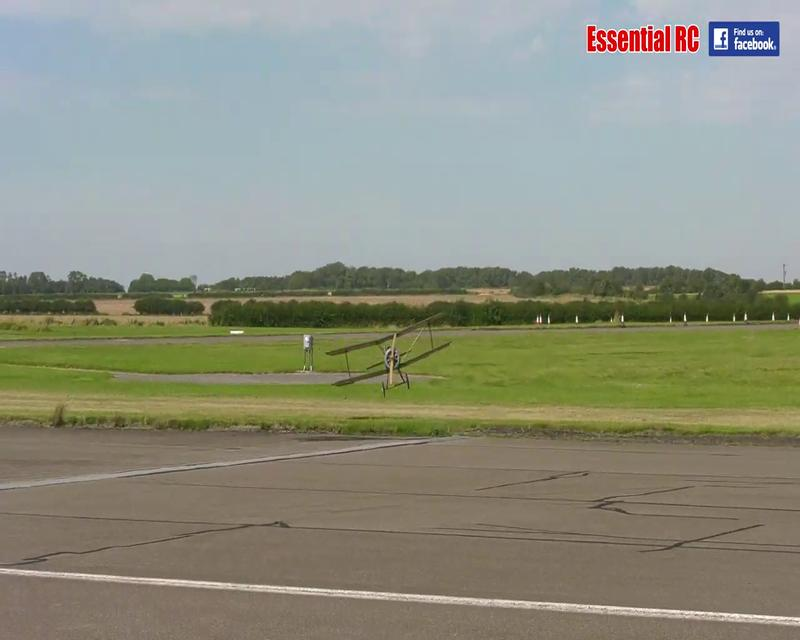UAV: (324, 311, 449, 398)
